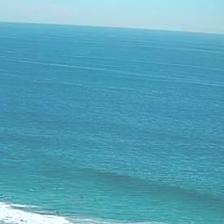surfer: (93, 198, 97, 202), (79, 195, 84, 198), (41, 187, 45, 190), (56, 211, 59, 214)
